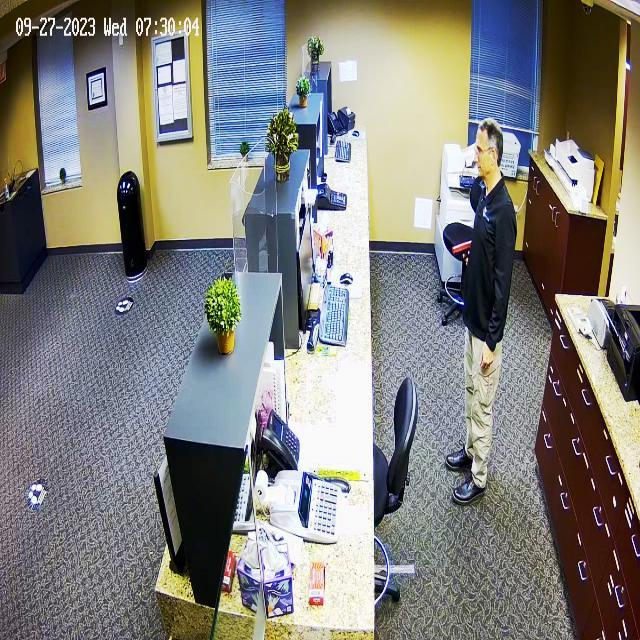Gun: (443, 228, 476, 267)
